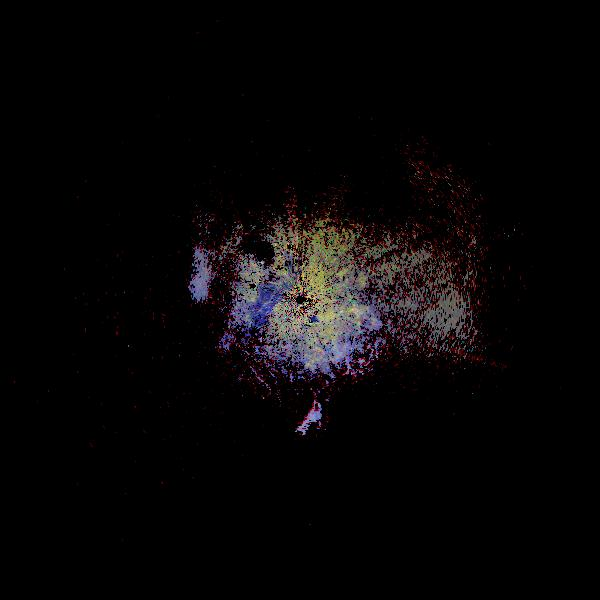roost: (243, 349, 345, 451)
